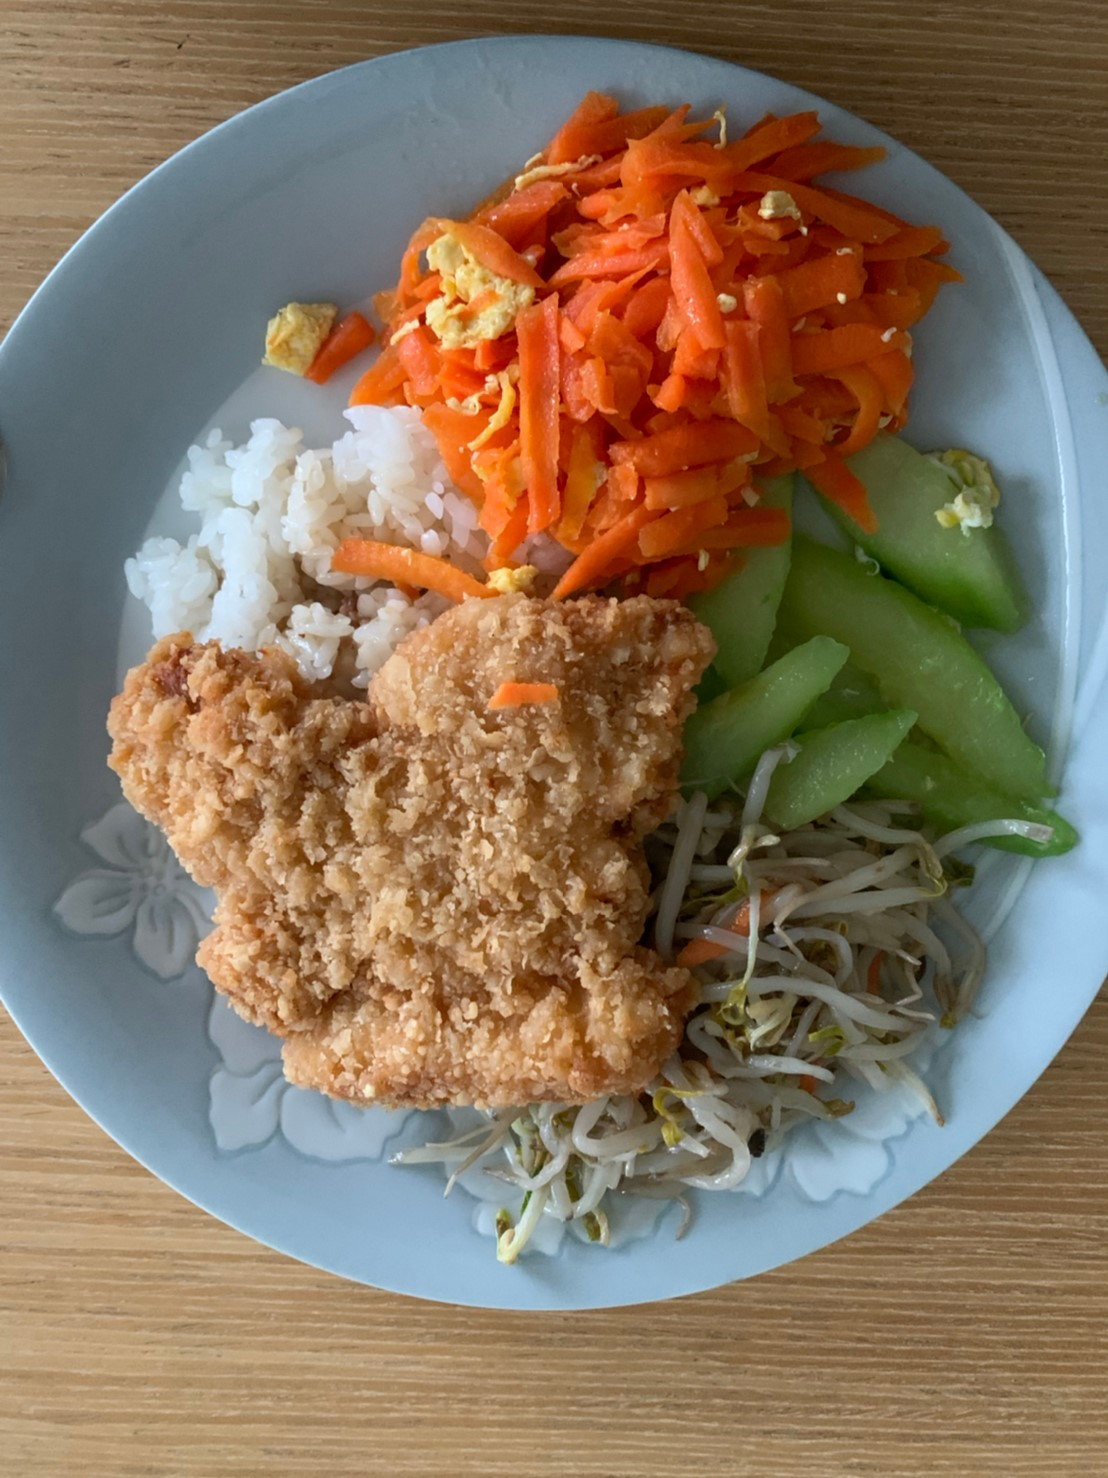carrot_eggs: (395, 109, 908, 543)
fried_chicken: (101, 583, 720, 1120)
mung_bean_sprouts: (656, 798, 951, 1113)
rice: (109, 408, 442, 627)
